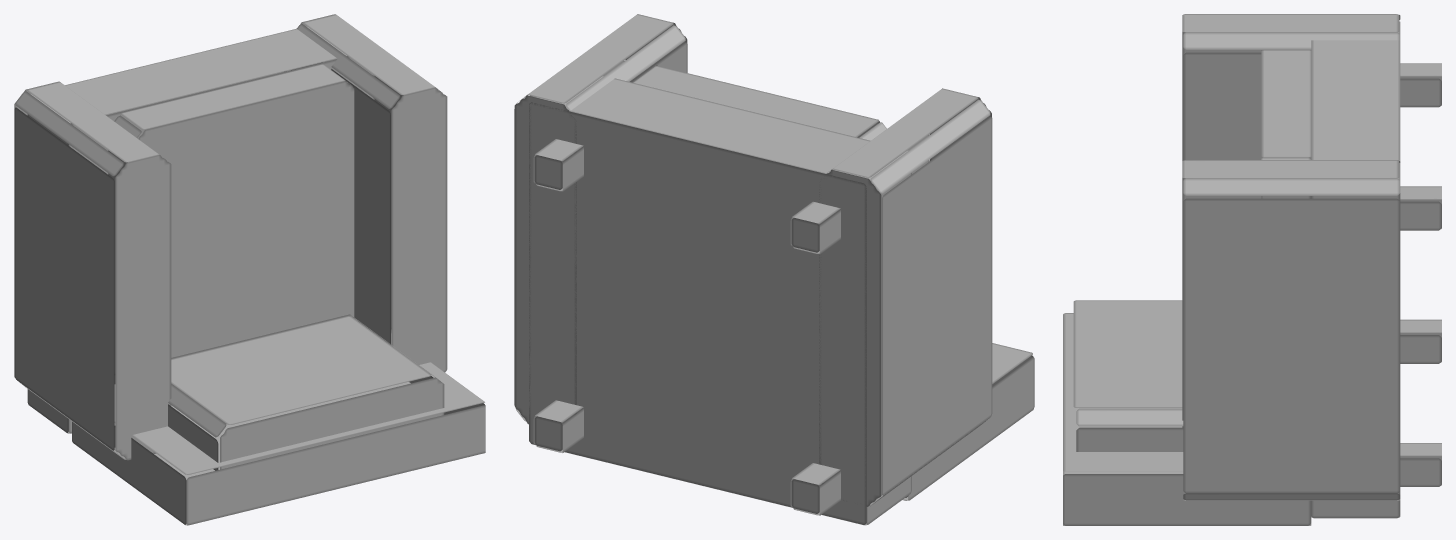
Rendered from pz_chair_seating_indoor_02_white_lazy.obj.
The picture shows the model from 3 angles, left to right: view 1: azimuth 30°, elevation 25°; view 2: azimuth 150°, elevation 25°; view 3: azimuth 270°, elevation 25°; orthographic projection. The views are drawn at different scales.
Visible parts, largest first — view 1: root; view 2: root; view 3: root.
Boxes of the visible parts, x1=… form: root: x1=14, y1=14, x2=485, y2=525; root: x1=514, y1=14, x2=1034, y2=525; root: x1=1063, y1=14, x2=1441, y2=525.
Size of the model in its own units: 1 by 0.93 by 0.91.
1 material, 1 textured.
